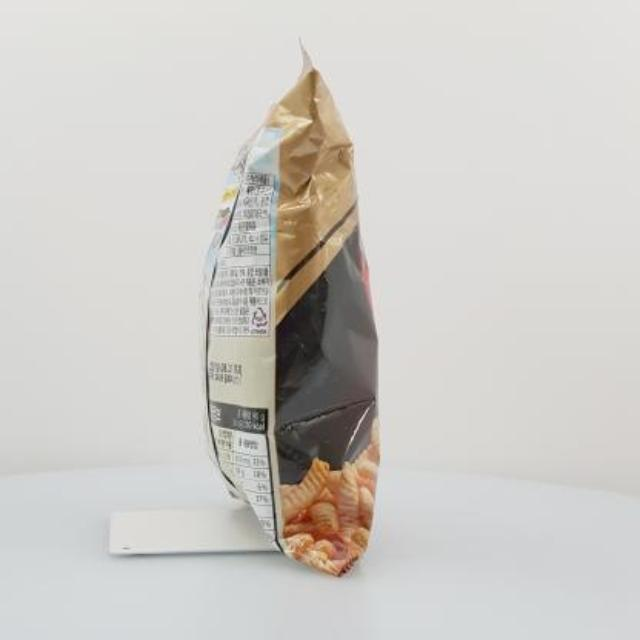snack_bag: (161, 25, 413, 598)
